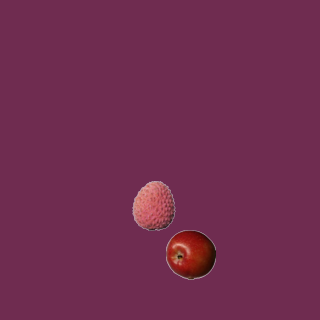Apple Braeburn: (165, 229, 215, 279)
Lychee: (128, 180, 178, 230)
